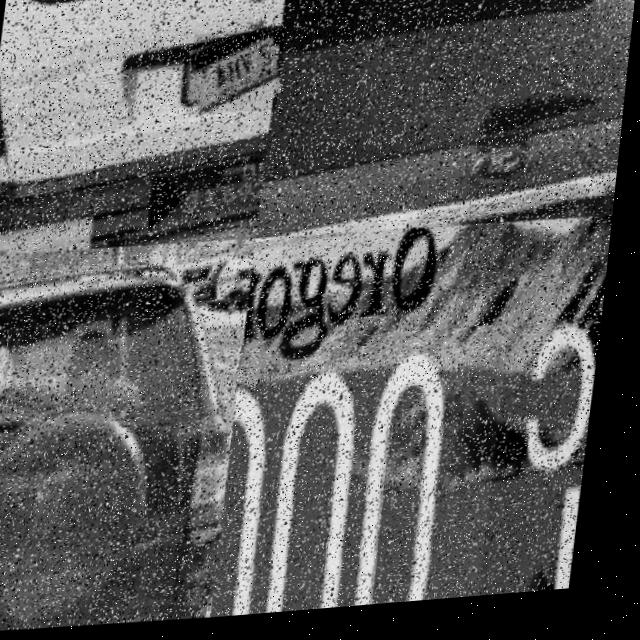LicensePlate: (223, 329, 518, 622), (188, 31, 286, 119)
